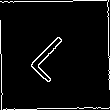L_NE: (26, 27, 84, 83)
